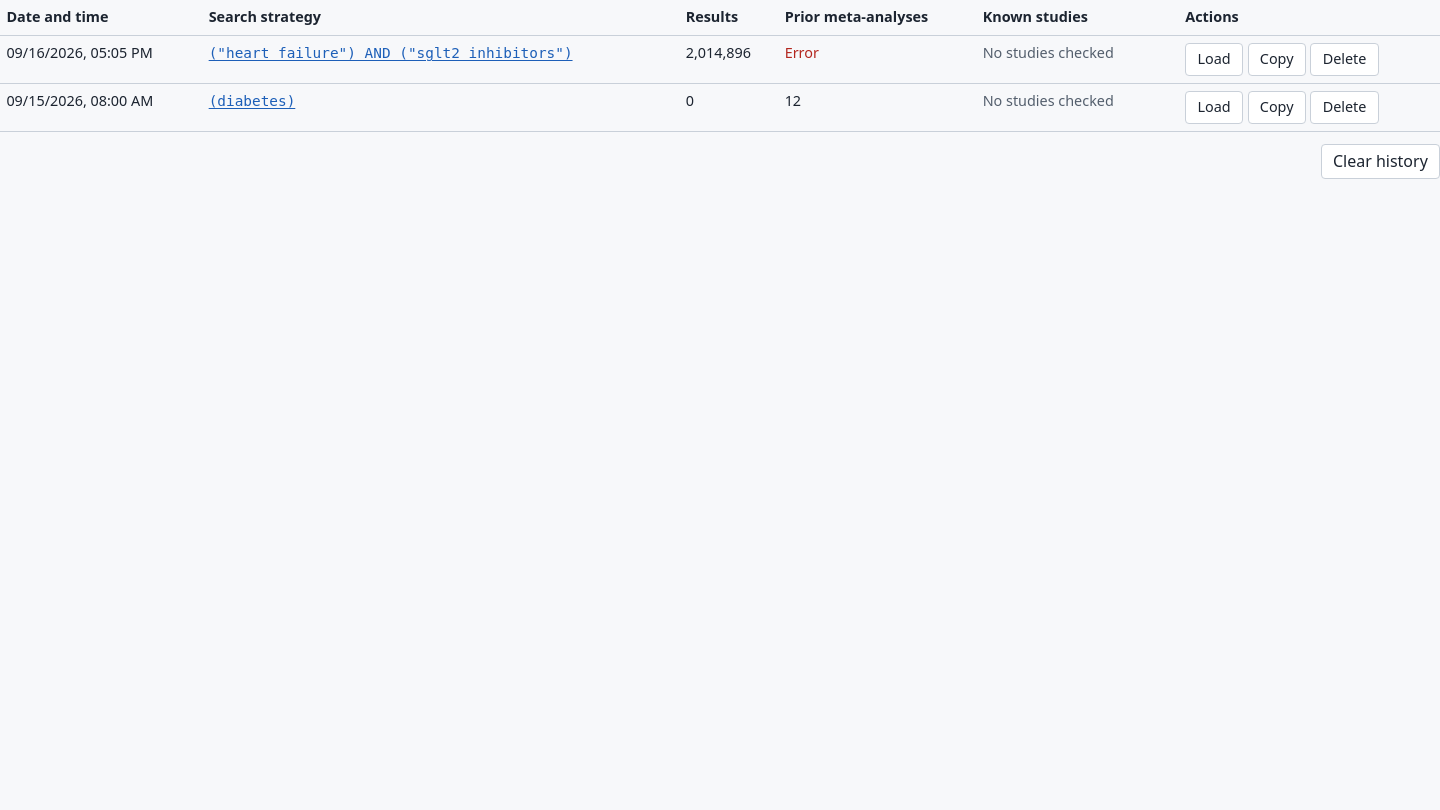
Scenario: HistoryTable (contracts/ui.md) › Clear history requires confirmation
Click the button "Clear history": [1380, 161] box [1321,144,1439,179]
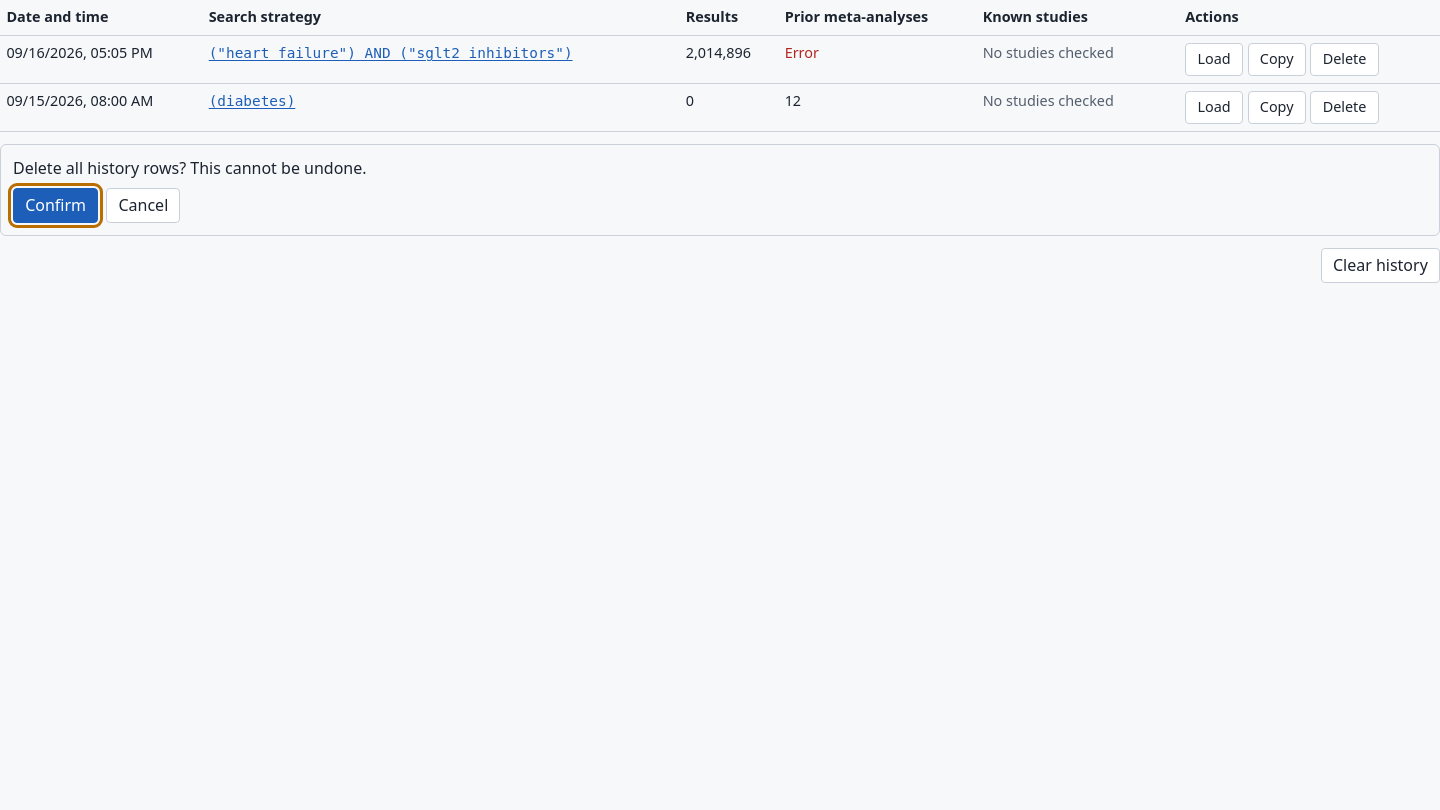
expect the dialog shows "Delete all history rows? This cannot be undone.": met, box [13,157,367,179]
Click the button "Confirm": [56, 206] box [13,188,98,223]
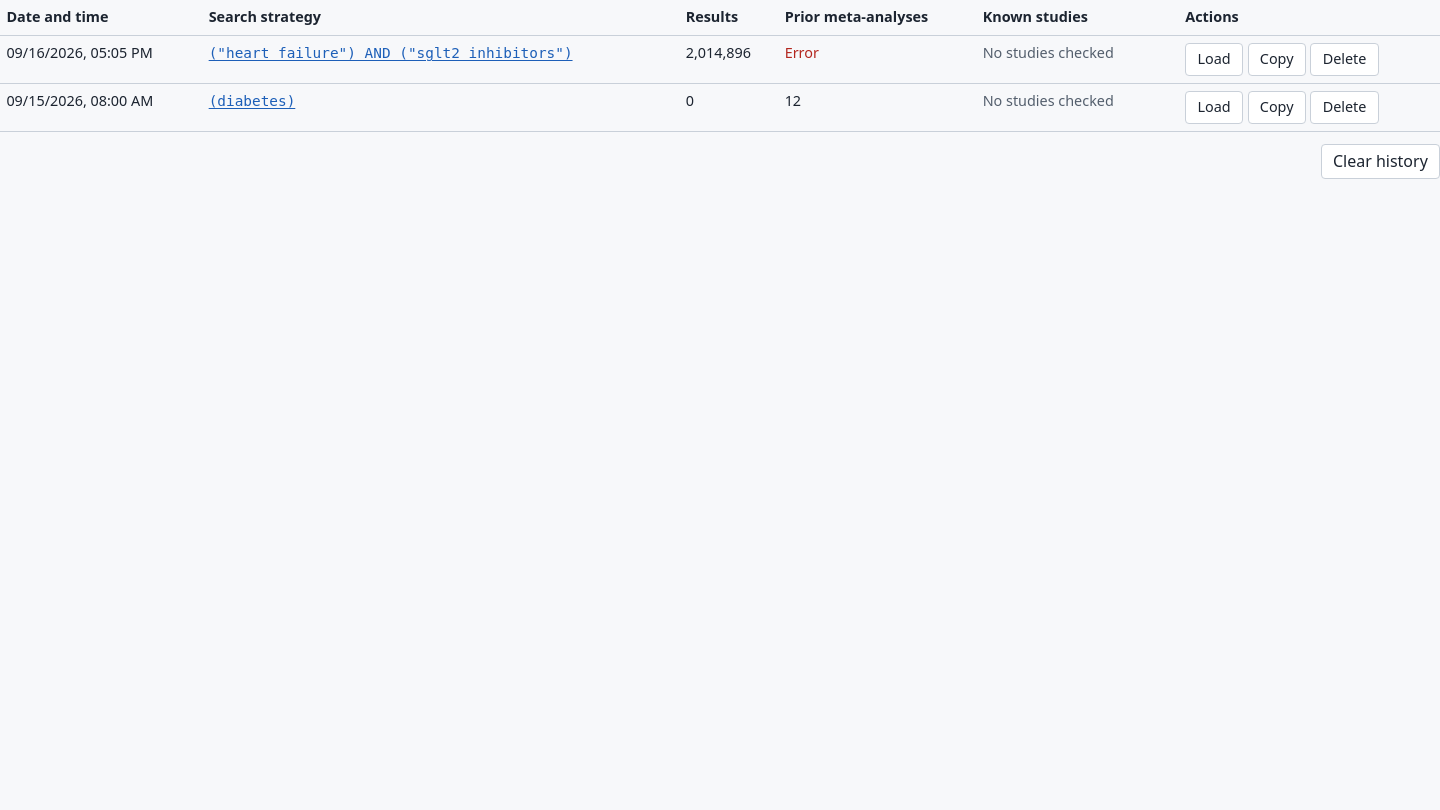
expect the dialog is gone: met
